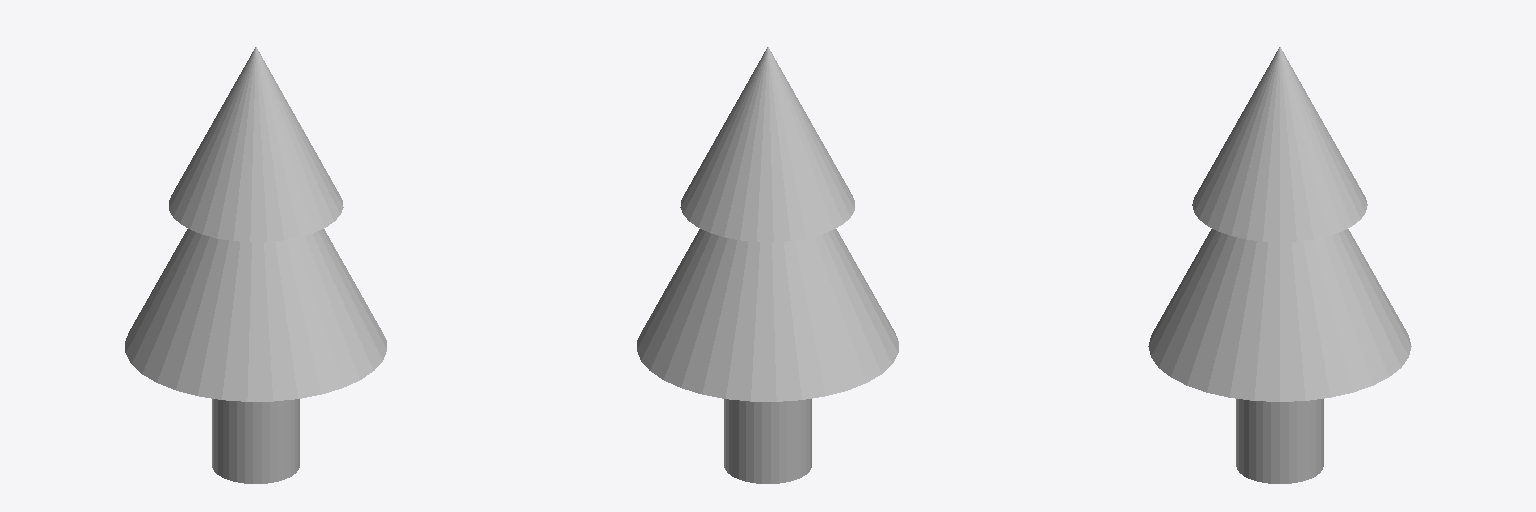
The model's file is tree.obj.
3 renders of one model, left to right at view 1: azimuth 30°, elevation 25°; view 2: azimuth 150°, elevation 25°; view 3: azimuth 270°, elevation 25°, orthographic.
Parts seen in each view (by area): view 1: Cone.001; view 2: Cone.001; view 3: Cone.001.
Part boxes in pixels (x1,y1,x2,y2): Cone.001: (125,47,386,483); Cone.001: (637,47,898,483); Cone.001: (1148,47,1411,483).
Size of the model in its own units: 0.75 by 1.32 by 0.75.